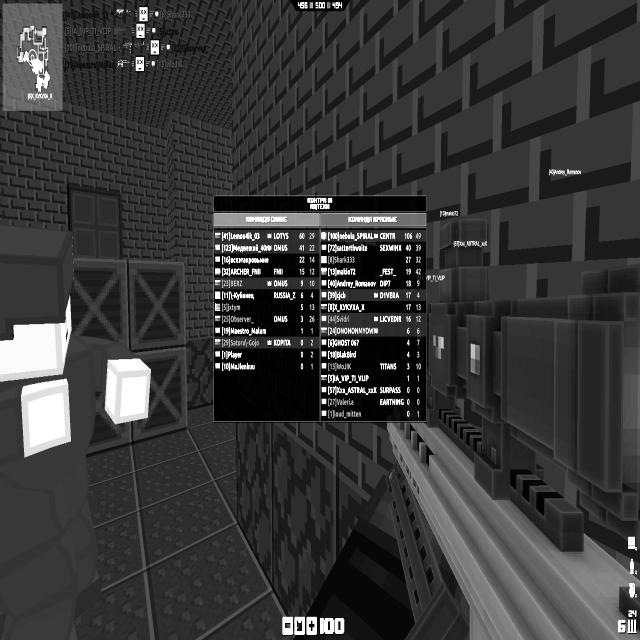Head: (0, 222, 73, 381)
Player: (0, 222, 151, 638)
